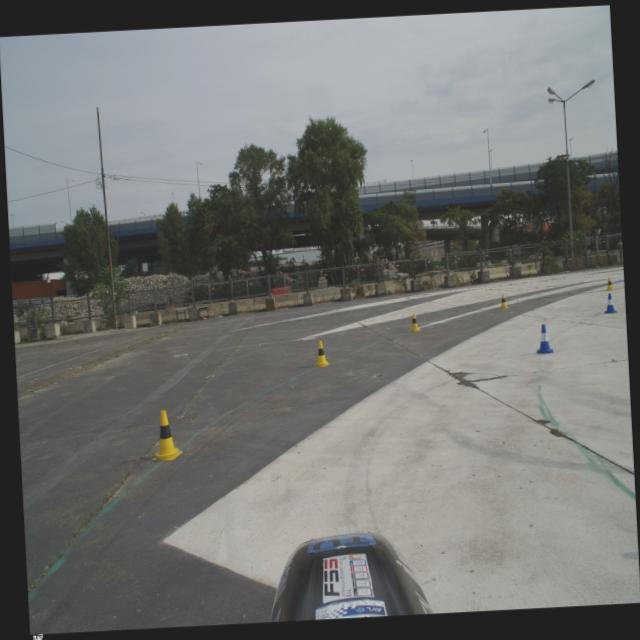blue_cone: (534, 324, 554, 354), (603, 294, 618, 314)
yellow_cone: (148, 409, 184, 461), (314, 340, 331, 367), (408, 313, 421, 332), (498, 294, 509, 310), (604, 277, 614, 291)
